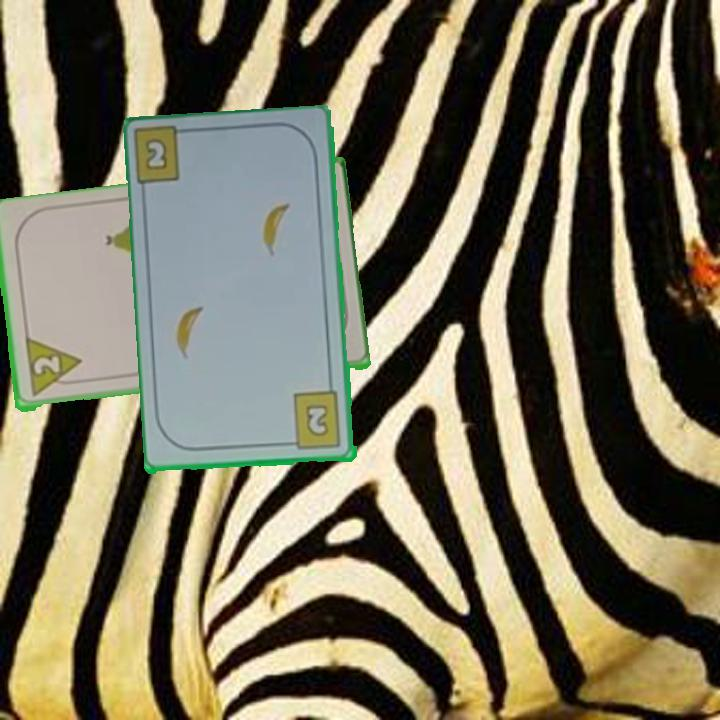2b: (283, 389, 344, 453), (141, 135, 171, 174)
2p: (21, 336, 86, 400)
